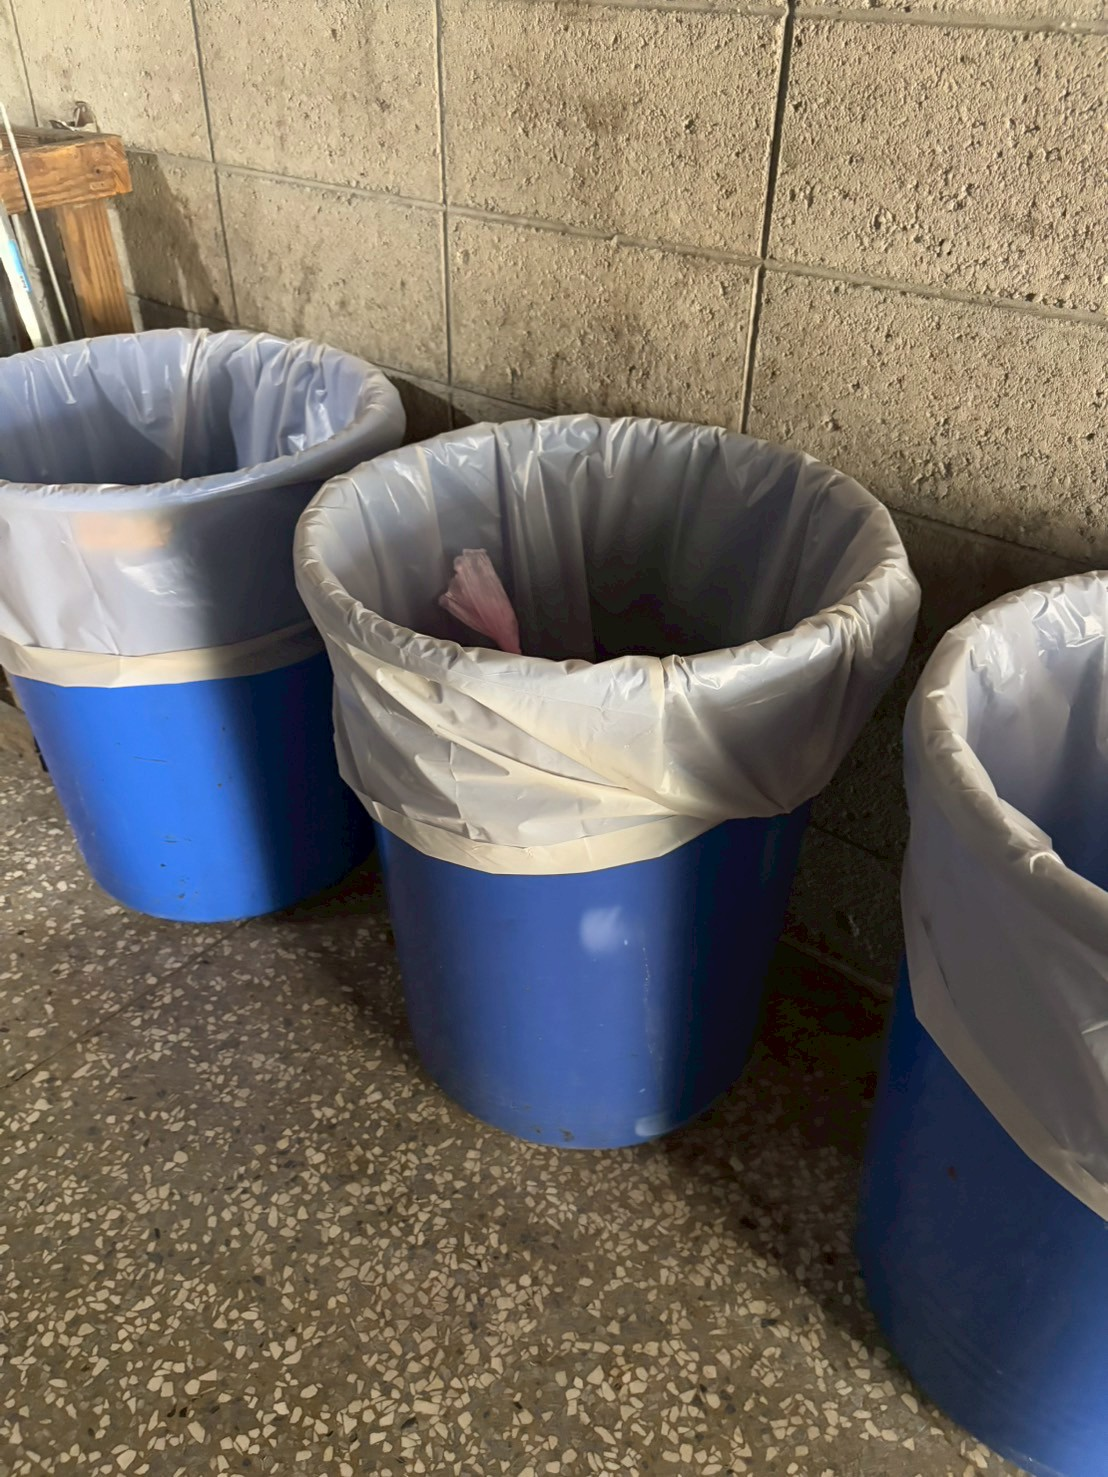normal_bin: (284, 398, 932, 1210)
